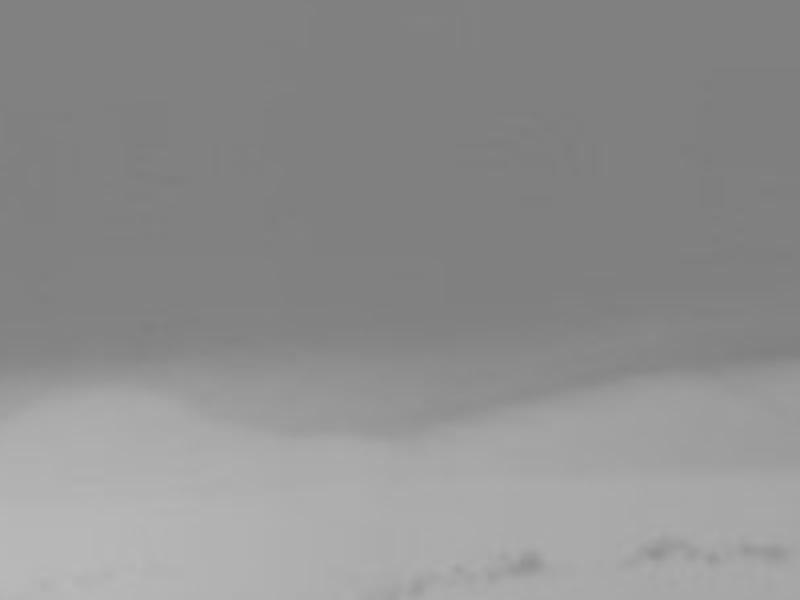defect: (513, 547, 550, 579), (639, 533, 677, 561), (408, 572, 440, 599), (449, 558, 482, 582), (758, 537, 785, 566), (675, 535, 703, 562), (482, 564, 509, 586), (706, 545, 727, 571), (736, 533, 757, 559)
